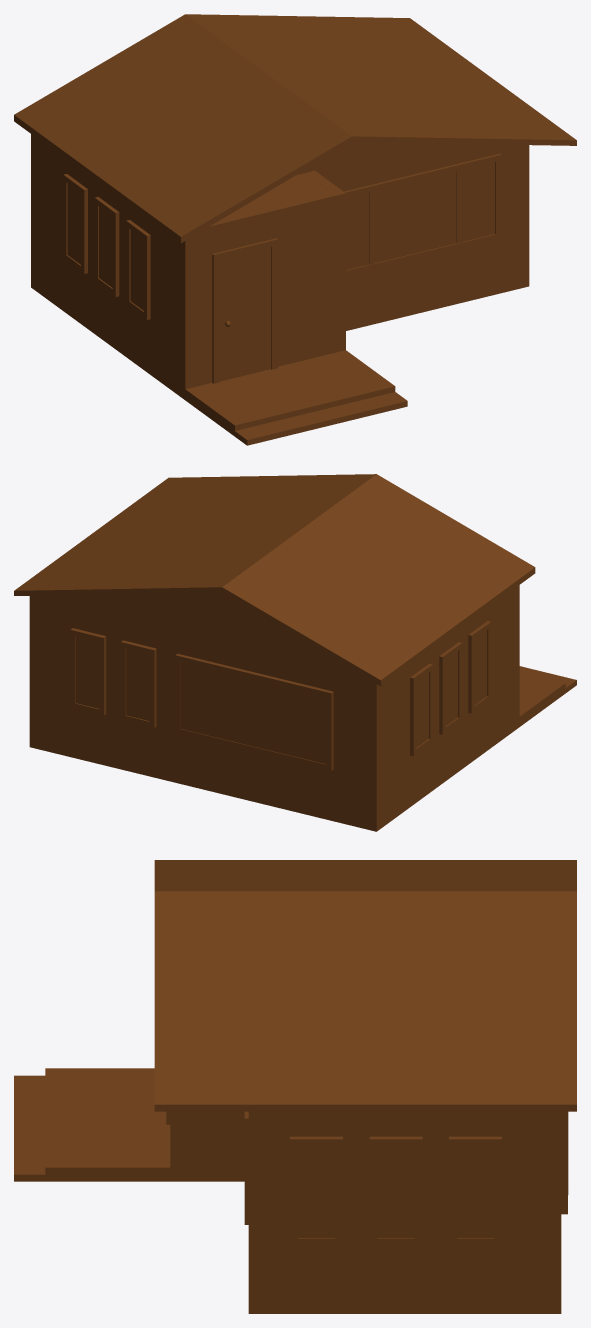
File: Casa Pequena.fbx
3 renders of one model, top to bottom at view 1: azimuth 30°, elevation 25°; view 2: azimuth 150°, elevation 25°; view 3: azimuth 270°, elevation 25°, orthographic. The views are drawn at different scales.
Visible parts, largest first — view 1: Casa Pequena.001; view 2: Casa Pequena.001; view 3: Casa Pequena.001.
Part boxes in pixels (left/top/right/bottom): Casa Pequena.001: left=14, top=14, right=576, bottom=445; Casa Pequena.001: left=14, top=474, right=576, bottom=831; Casa Pequena.001: left=14, top=860, right=576, bottom=1313.
Bounding box in the file's own units: 659 × 365 × 641.
